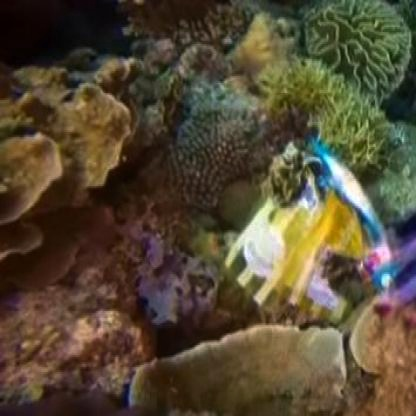plastic: (210, 102, 395, 350)
